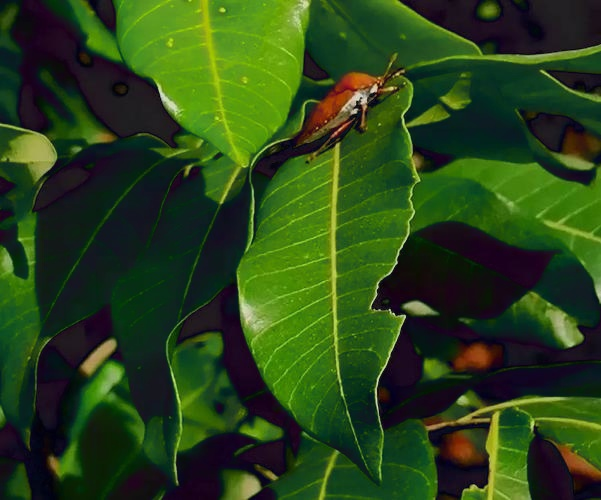Stink_Bug: (294, 53, 399, 149)
